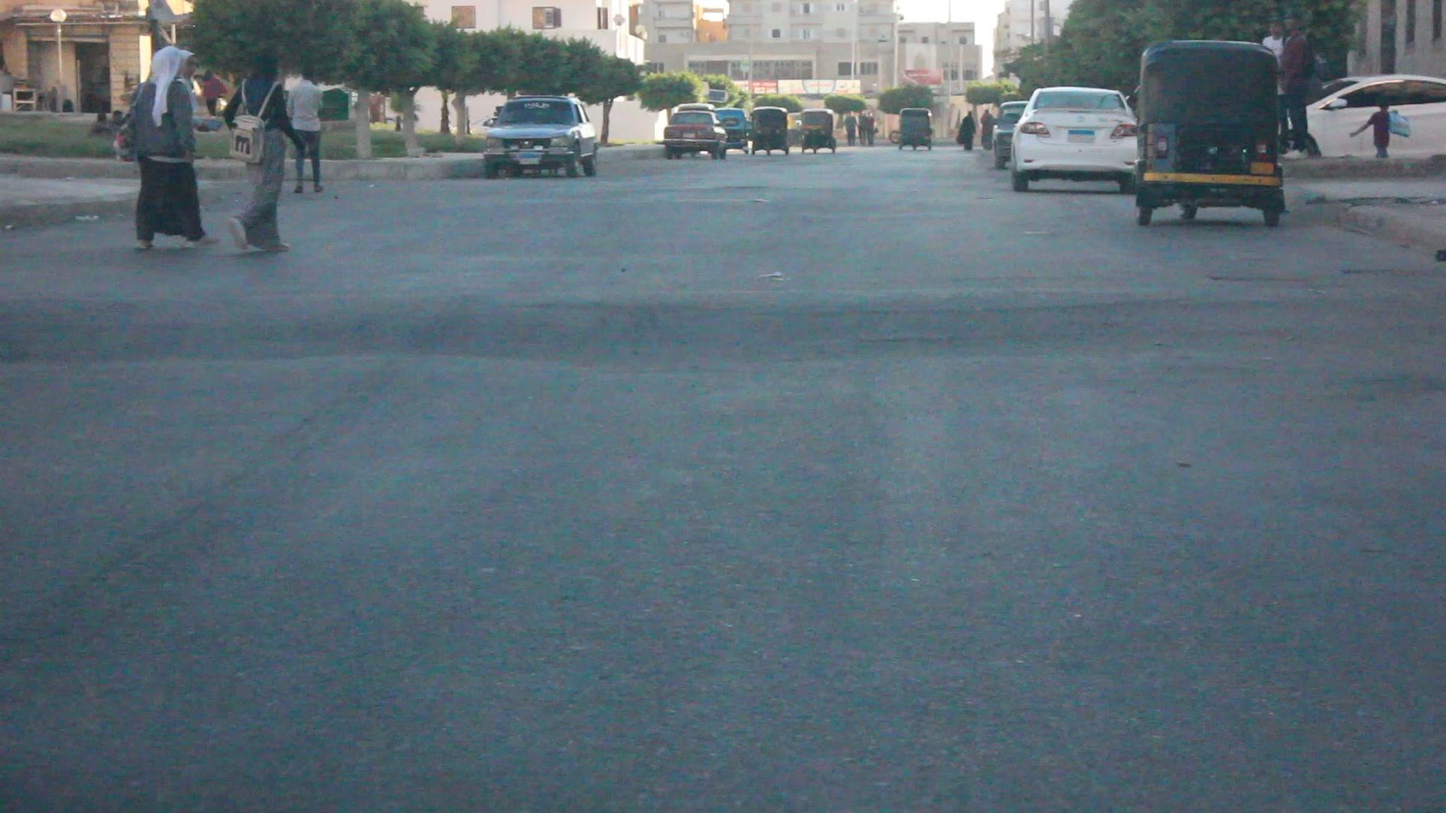Bump: (0, 248, 1421, 355)
